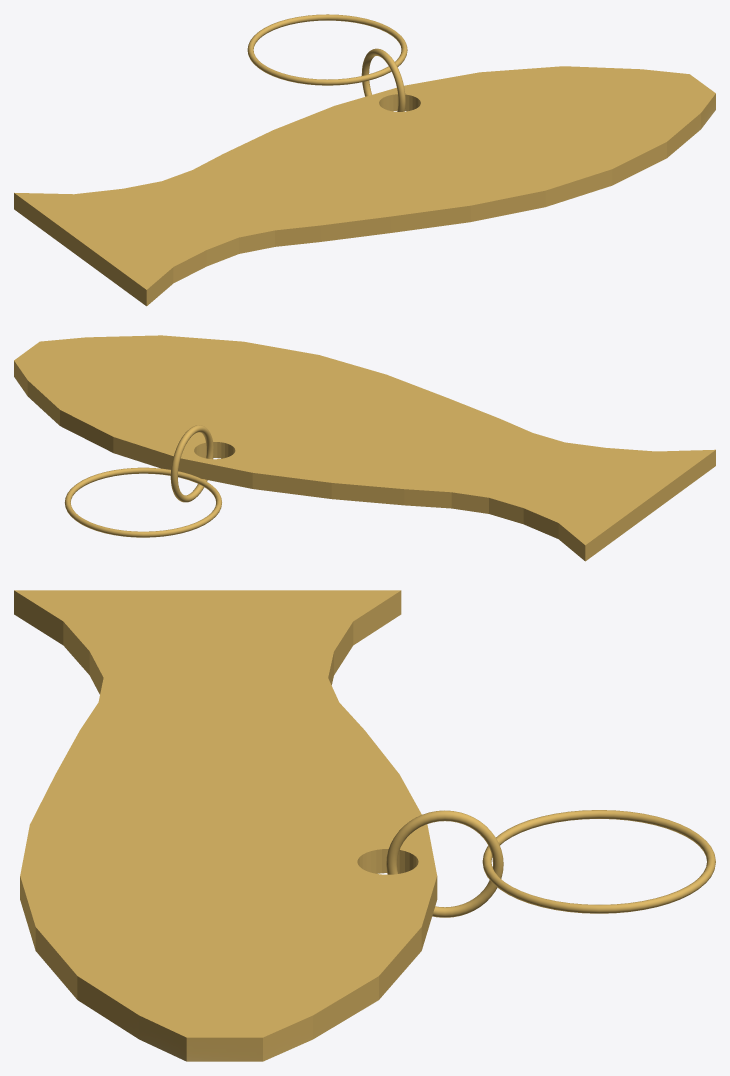
File: Tag.fbx
3 renders of one model, top to bottom at view 1: azimuth 30°, elevation 25°; view 2: azimuth 150°, elevation 25°; view 3: azimuth 270°, elevation 25°, orthographic. The views are drawn at different scales.
Visible parts, largest first — view 1: FishTag; view 2: FishTag; view 3: FishTag.
Part boxes in pixels (bbox=[...]): FishTag: bbox=[14, 14, 715, 306]; FishTag: bbox=[14, 335, 715, 561]; FishTag: bbox=[14, 590, 715, 1061].
Bounding box in the file's own units: 438 × 48.6 × 291.
